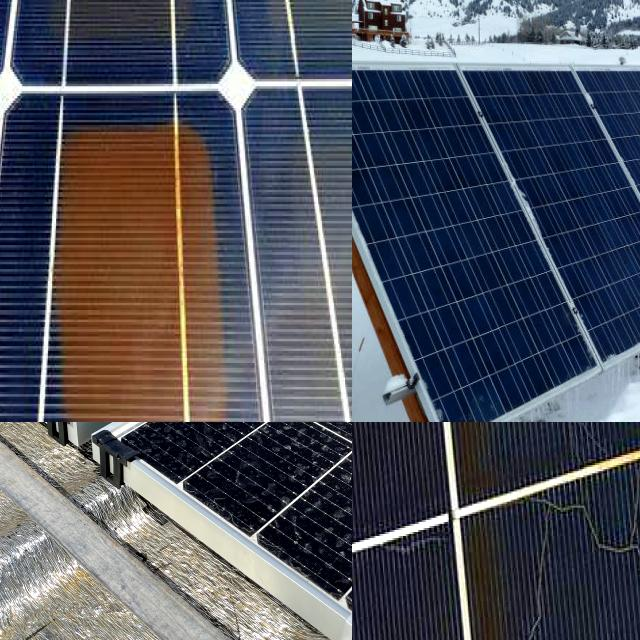dust: (0, 422, 140, 499), (147, 422, 256, 493), (284, 480, 352, 546), (40, 422, 132, 453)
shadow: (38, 72, 229, 422), (0, 125, 95, 422), (510, 468, 640, 640), (48, 0, 205, 75), (359, 503, 452, 575), (260, 0, 352, 69), (532, 422, 620, 492), (0, 0, 75, 77)
